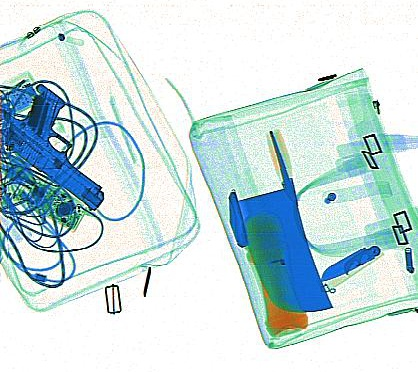knife: (234, 129, 332, 312), (318, 241, 383, 293), (227, 187, 249, 249)
